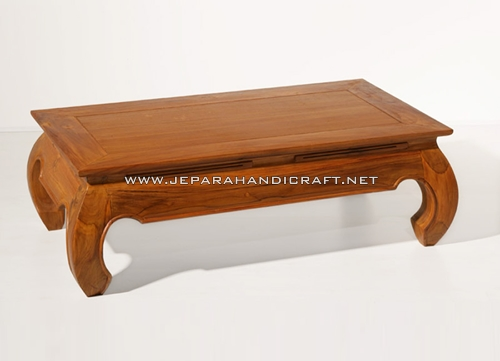Carving Table: (24, 75, 465, 287)
